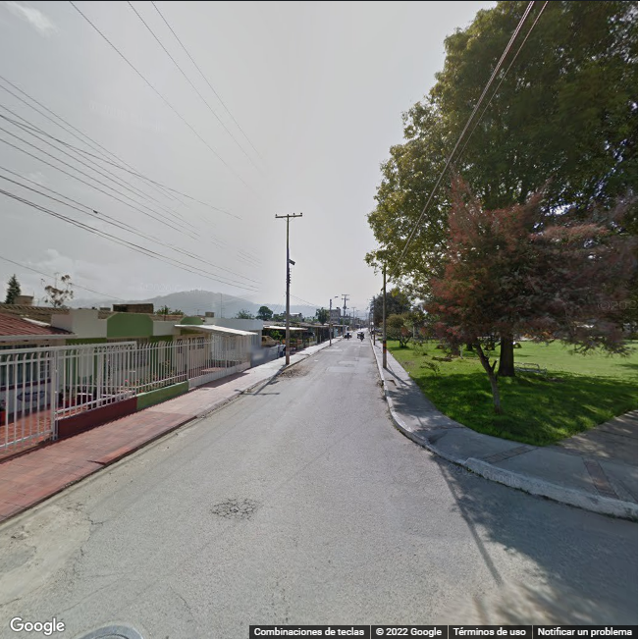D00: (52, 579, 110, 619)
D10: (163, 581, 206, 632)
D40: (204, 491, 255, 530)
